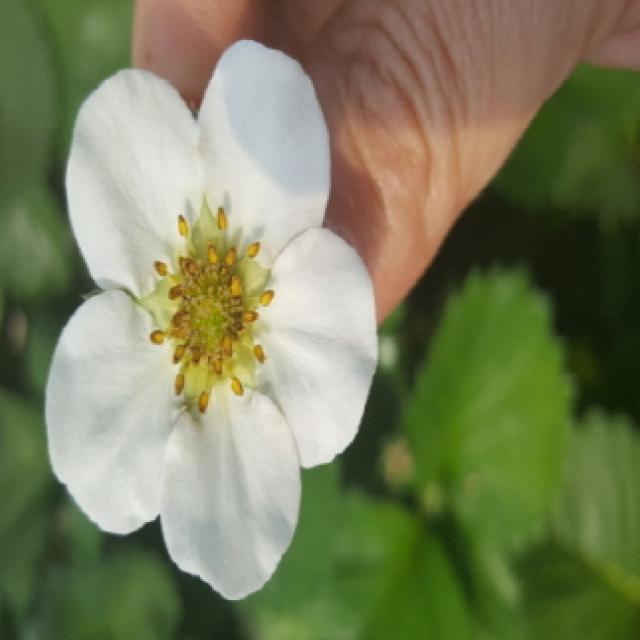Blossom Blight: (133, 194, 283, 411)
